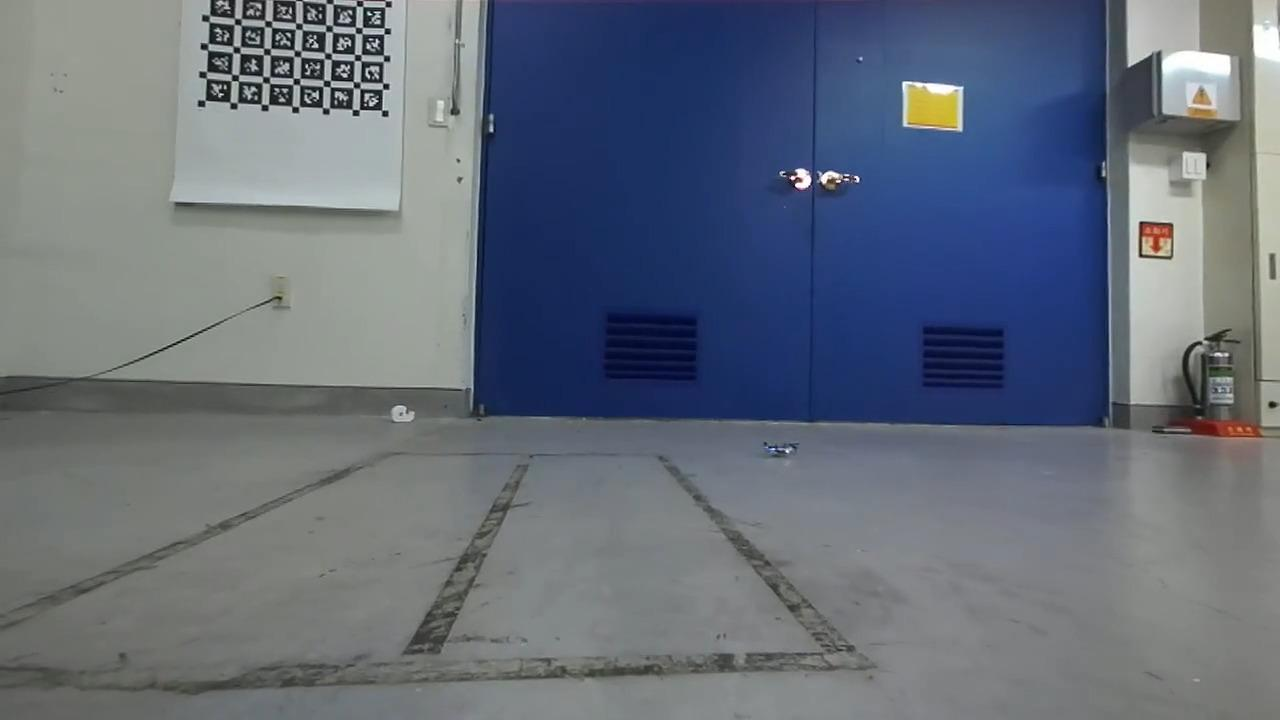crazyflie: (759, 435, 804, 465)
